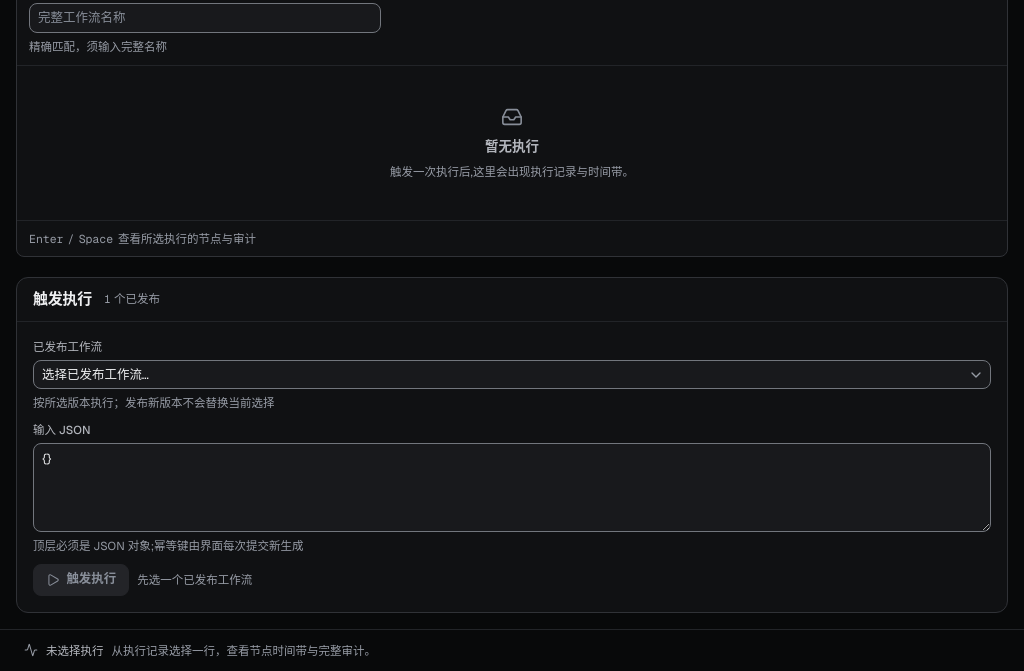
Test case: ExecutionsView(执行面) › 迟到的旧版输入契约不覆盖新选择;列表出现新版时不偷换契约
(page scrolled)
Click the dropdown with test id "trigger-definition". click: (96, 374)
box: [33,360,991,390]
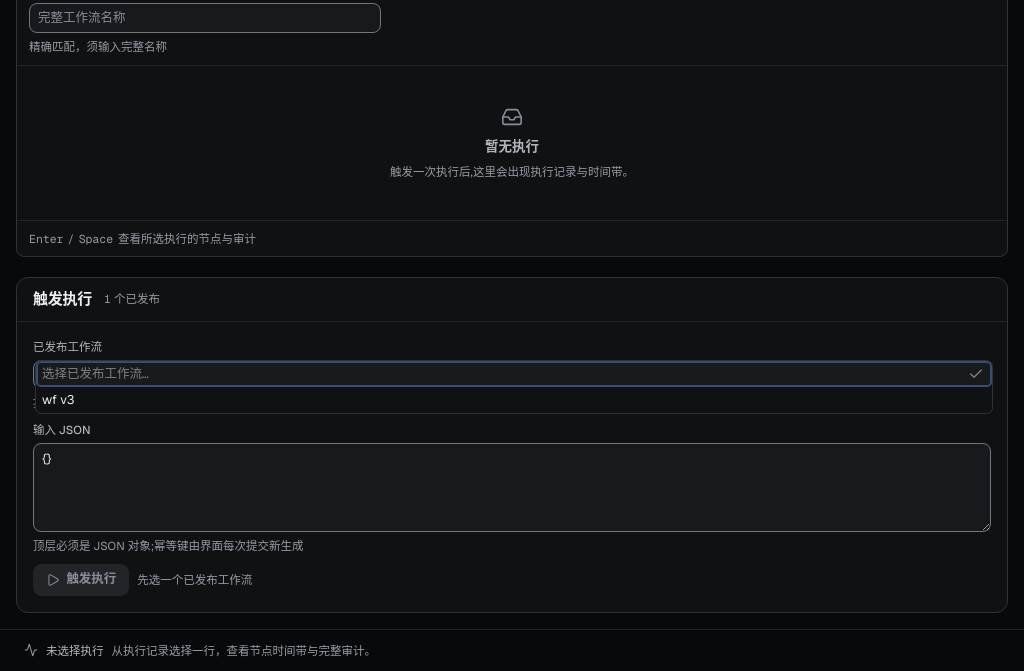
Click the option "wf v3". click: (58, 399)
box: [42,391,74,408]
(page scrolled)
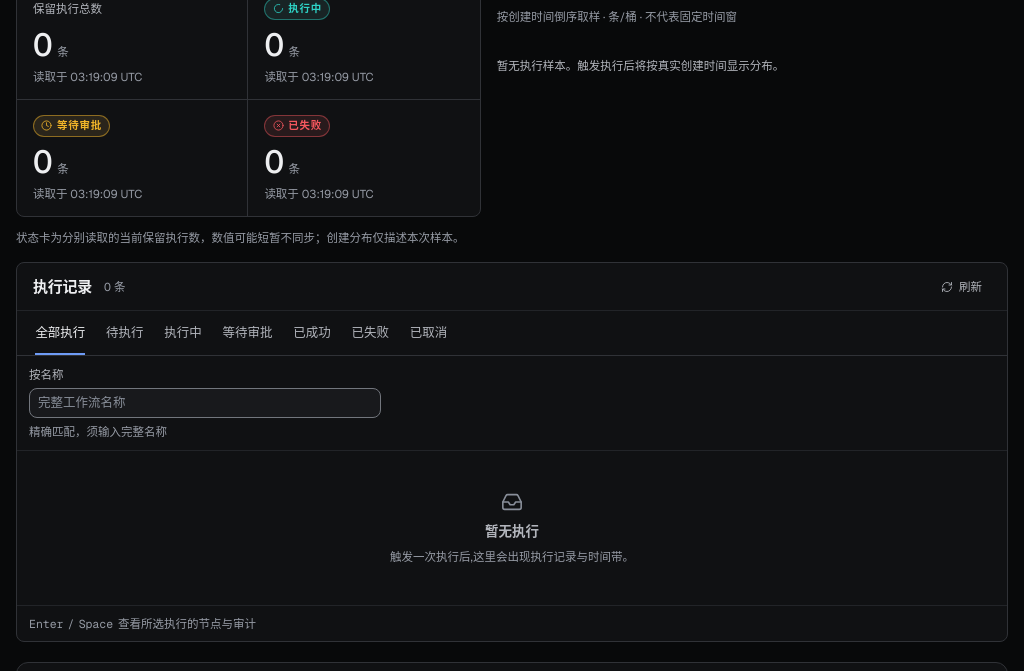
Click the button with aria-label "刷新执行列表". click: (961, 287)
box: [932,274,991,300]
(page scrolled)
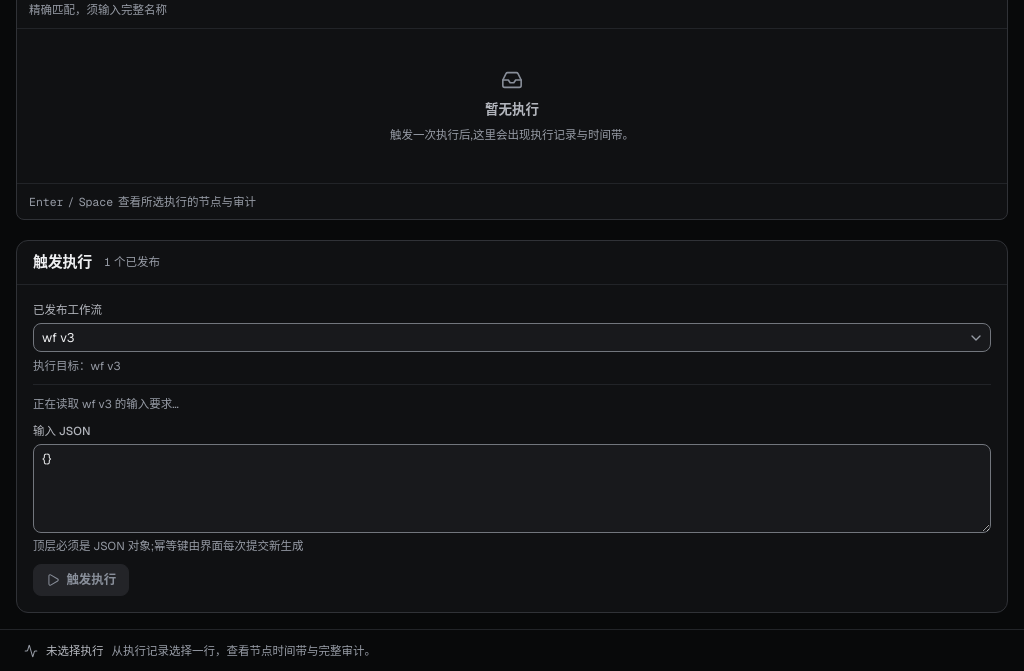
Expected: the dropdown with test id "trigger-definition" shows "wf v3"
Click the dropdown with test id "trigger-definition". click: (58, 337)
box: [33,323,991,352]
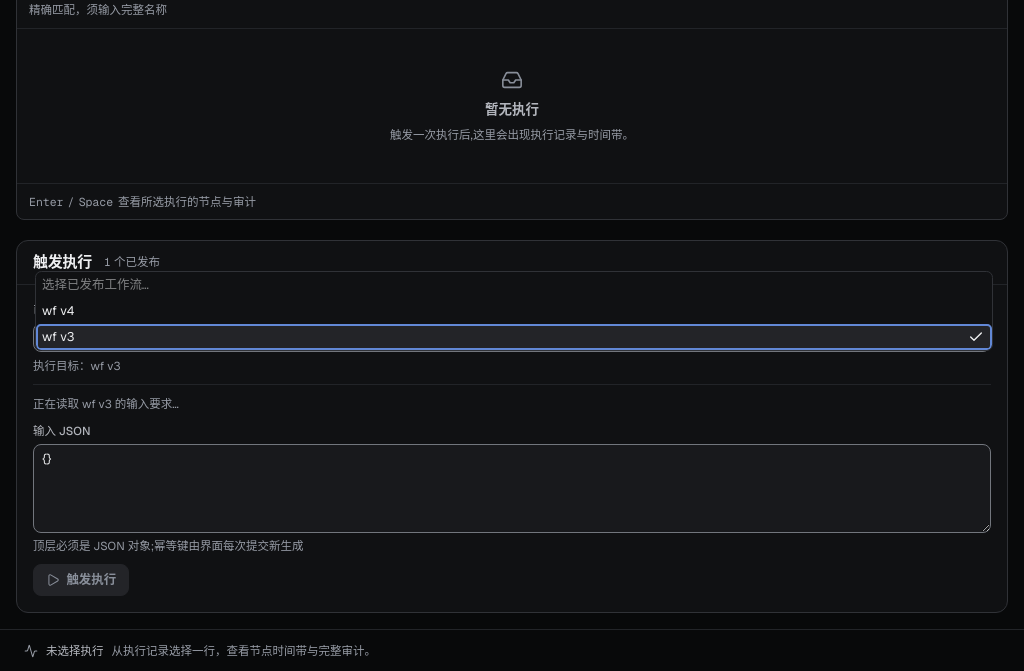
Click the option "wf v4". click: (58, 310)
box: [42,302,74,319]
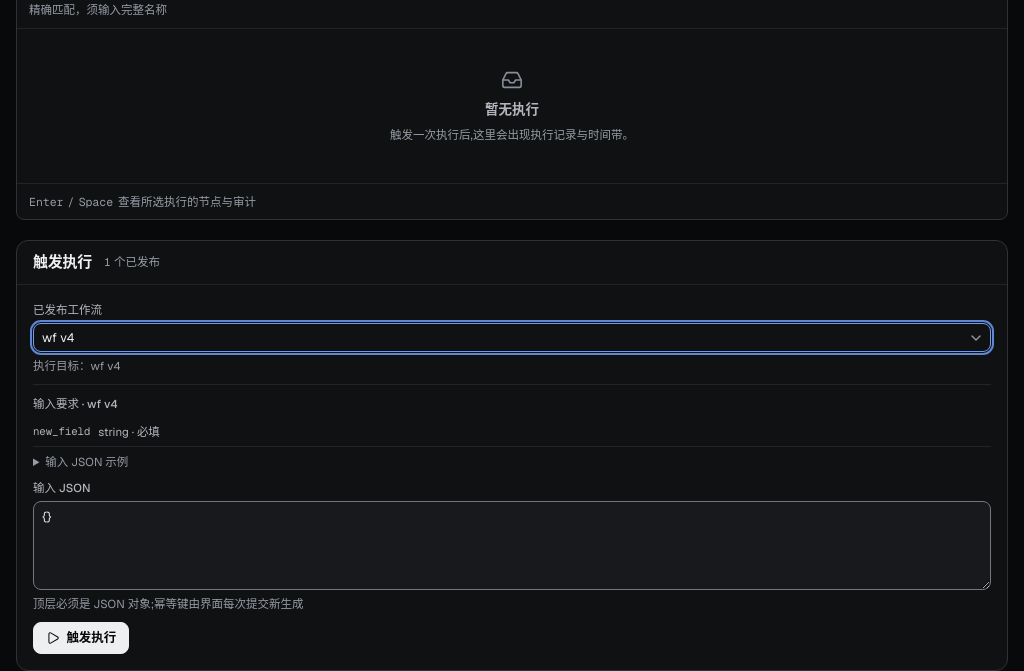
Expected: the text "new_field" is shown, [33,423,90,440]
Expected: the button with test id "trigger-submit" is enabled, [33,622,129,654]
Expected: the element named "所选版本输入要求" shows "wf v4", [33,384,991,470]
